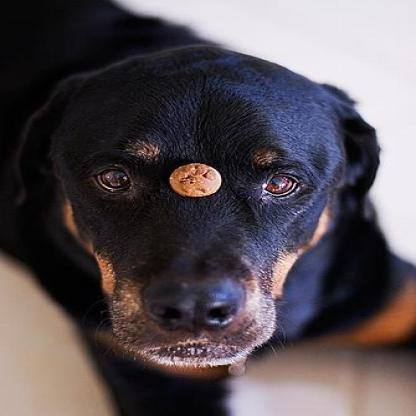Rottweiler: (0, 0, 412, 413)
